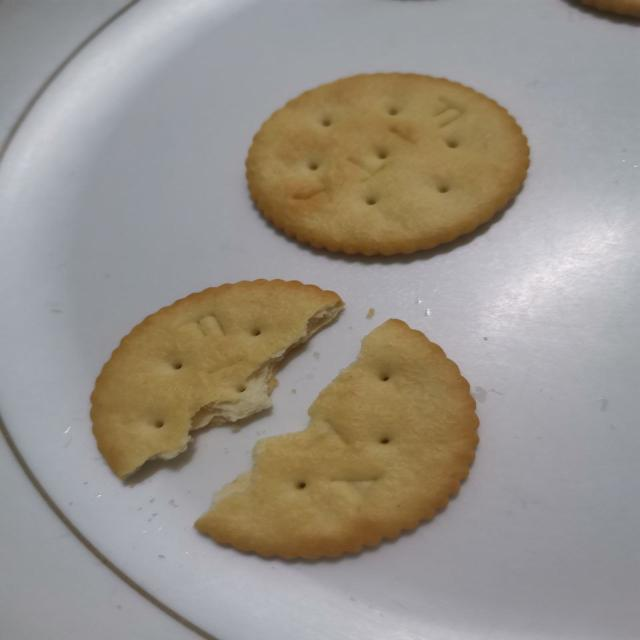broken biscuit: (192, 316, 481, 562), (87, 276, 346, 481)
intact biscuit: (243, 70, 531, 258)
